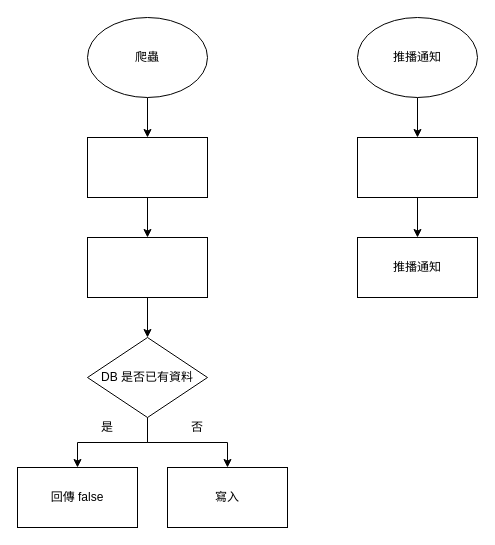
Some shapes in this 495 by 545 pixel diagram are drawn without their labels. The shapes that lost their labels are listed below. From the top down, each one's centre as x and y in pixels, then its label:
the point at 147,167: 由 mamagement/ crwal.py 檢查 crawler/url_list.json
the point at 417,167: 由 management/ send_msg.py 撈取 DB 中 尚未推播的訊息
the point at 147,267: crawler/ crwal.py 爬資料
